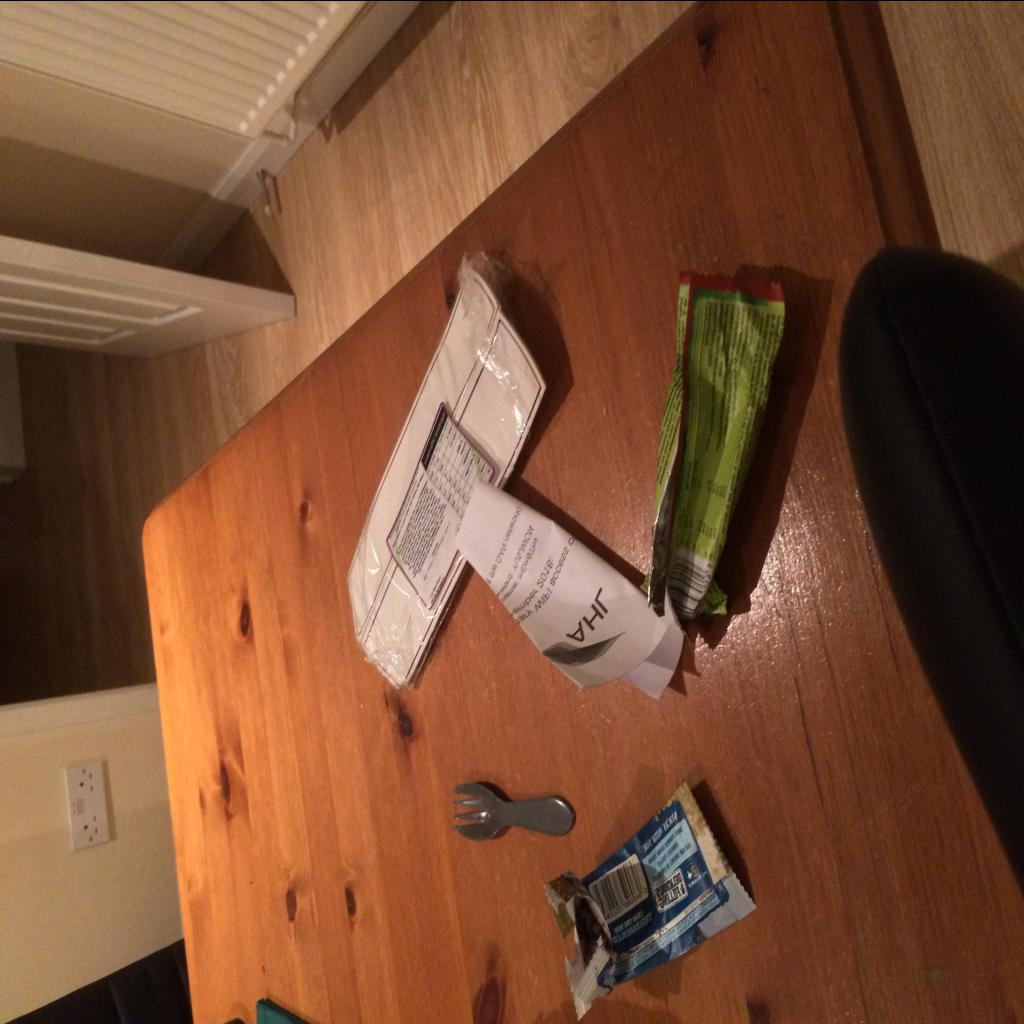Normal paper: (455, 480, 683, 700)
Other plastic: (648, 270, 786, 650), (543, 780, 757, 1021)
Plastic film: (346, 252, 532, 690)
Plastic utensils: (451, 782, 575, 840)
